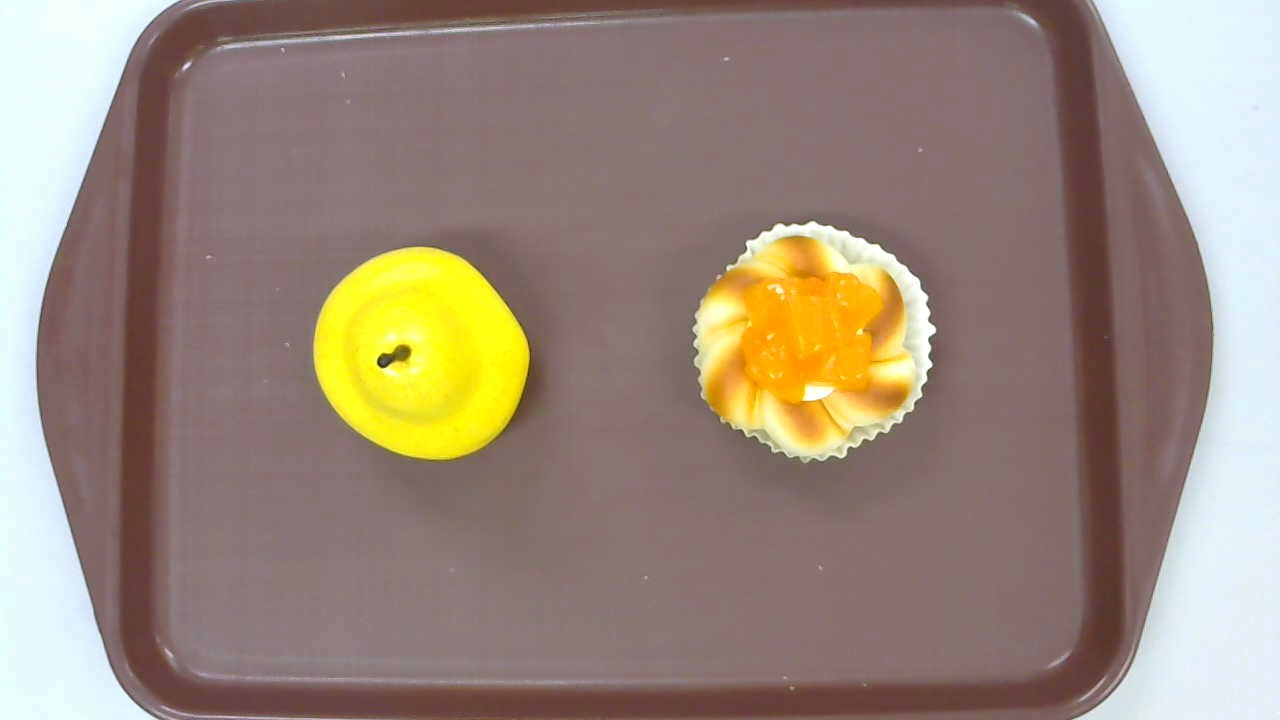mango tart: (690, 218, 937, 465)
yellow pear: (311, 247, 532, 461)
